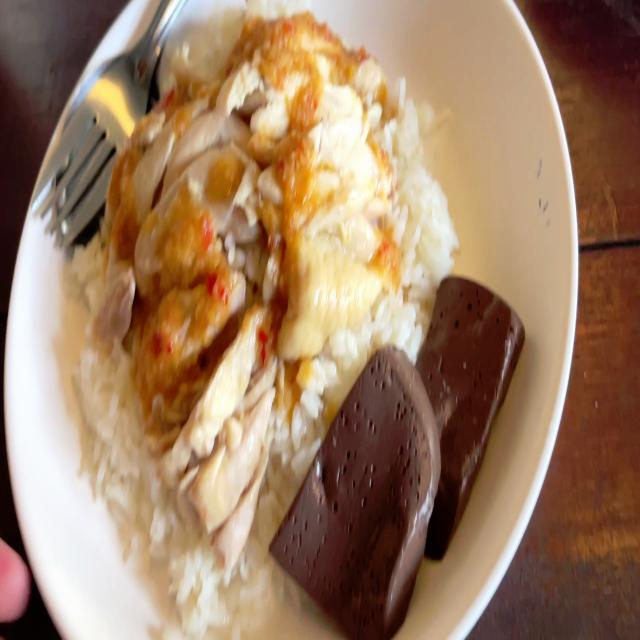boiled_chicken: (111, 23, 378, 444)
boiled_chicken_blood_jelly: (277, 337, 438, 621), (400, 277, 516, 535)
chicken_rice: (70, 8, 523, 621)
